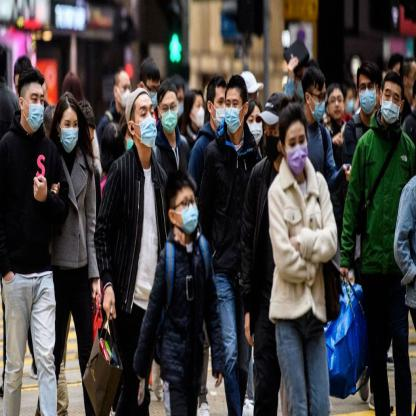Not_Wearing_Mask: (327, 94, 345, 118)
Wearing_Mask: (285, 129, 309, 176), (134, 102, 158, 144), (175, 192, 199, 234), (24, 90, 44, 130), (380, 86, 401, 124), (60, 114, 80, 151), (261, 124, 279, 163), (224, 94, 241, 134), (357, 78, 376, 113), (159, 98, 177, 134), (246, 111, 262, 145), (311, 89, 326, 121), (213, 92, 225, 127), (116, 82, 132, 108), (145, 82, 160, 109), (192, 99, 205, 127)
